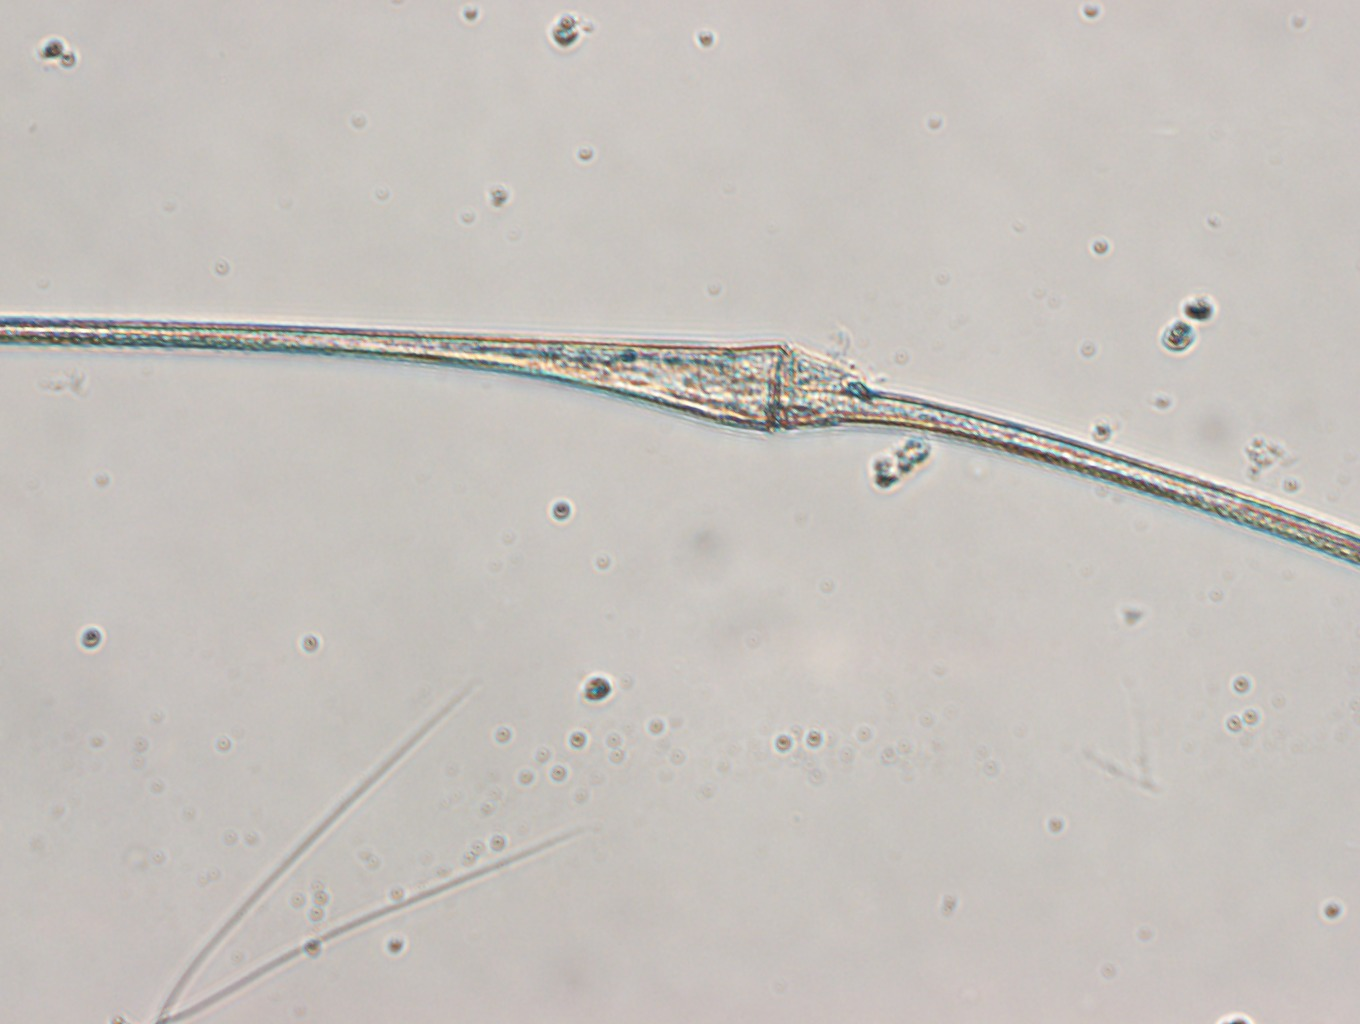ceratium fusus: (1, 312, 1360, 575)
